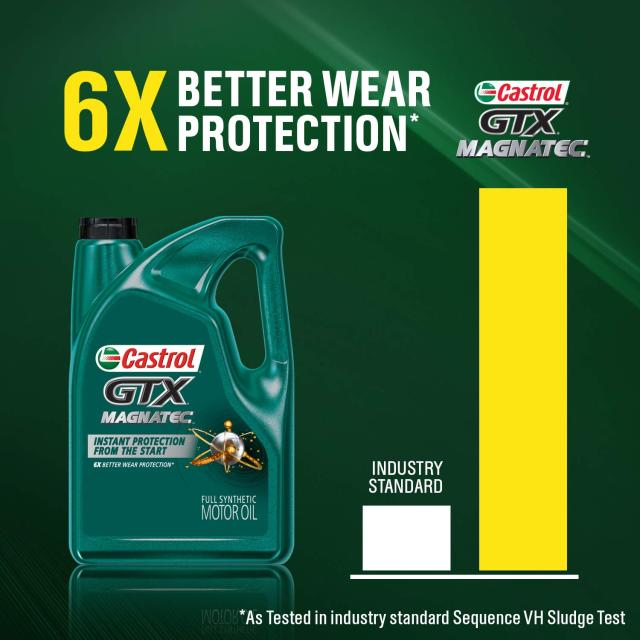motor_oil: (66, 198, 298, 573)
